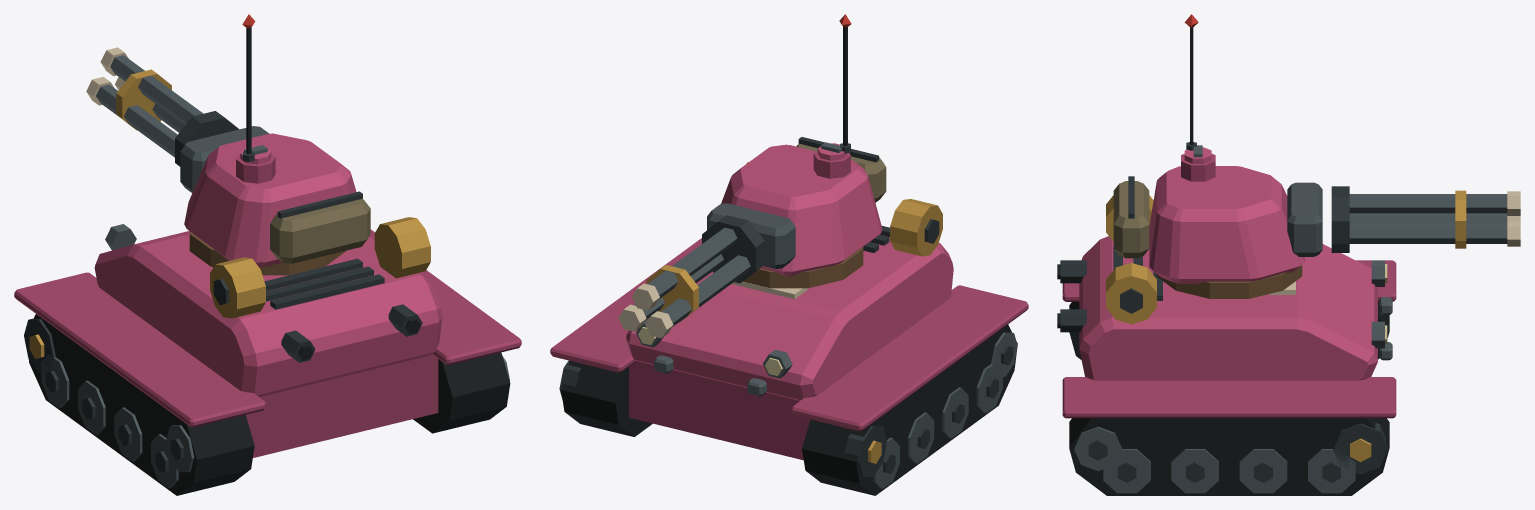
3 renders of one model, left to right at view 1: azimuth 30°, elevation 25°; view 2: azimuth 150°, elevation 25°; view 3: azimuth 270°, elevation 25°, orthographic. The views are drawn at different scales.
Parts seen in each view (by area): view 1: hull_09, turret_09; view 2: hull_09, turret_09; view 3: hull_09, turret_09.
Part boxes in pixels (x1=…): hull_09: x1=14, y1=217, x2=521, y2=495; turret_09: x1=86, y1=14, x2=370, y2=275; hull_09: x1=550, y1=162, x2=1028, y2=495; turret_09: x1=618, y1=14, x2=886, y2=338; hull_09: x1=1057, y1=195, x2=1396, y2=495; turret_09: x1=1113, y1=14, x2=1520, y2=298.
Bounding box in the file's own units: 0.805 × 0.9738 × 1.04.
